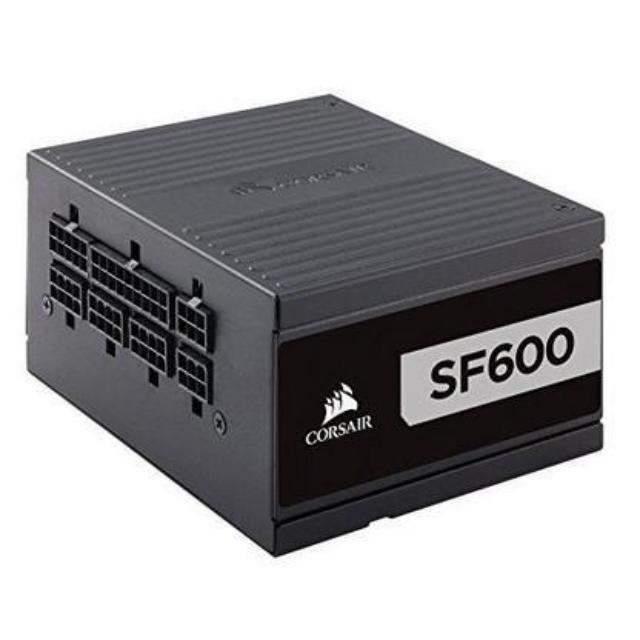PSU: (27, 85, 621, 572)
